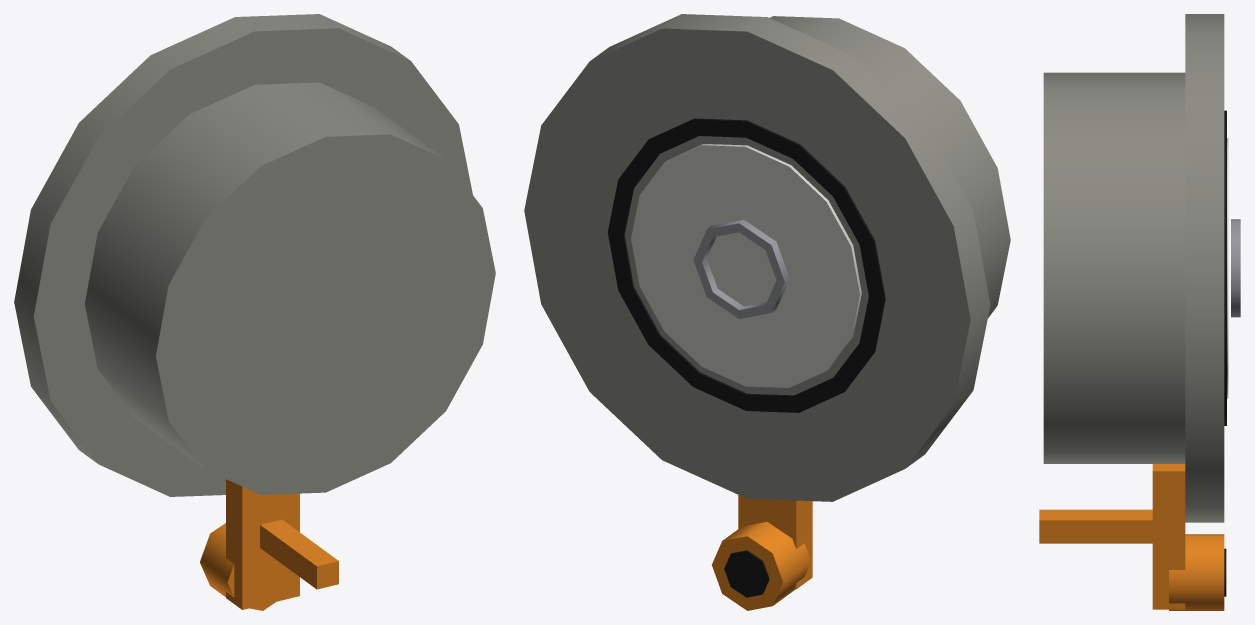
File: refuge100_flange.obj
The picture shows the model from 3 angles, left to right: view 1: azimuth 30°, elevation 25°; view 2: azimuth 150°, elevation 25°; view 3: azimuth 270°, elevation 25°; orthographic projection.
Visible parts, largest first — view 1: refuge100_flange; view 2: refuge100_flange; view 3: refuge100_flange.
Boxes of the visible parts, x1,y1,x2,y2 form: refuge100_flange: (14,14,495,610); refuge100_flange: (524,14,1010,610); refuge100_flange: (1039,14,1240,610).
Size of the model in its own units: 1.56 by 1.93 by 0.6176.
